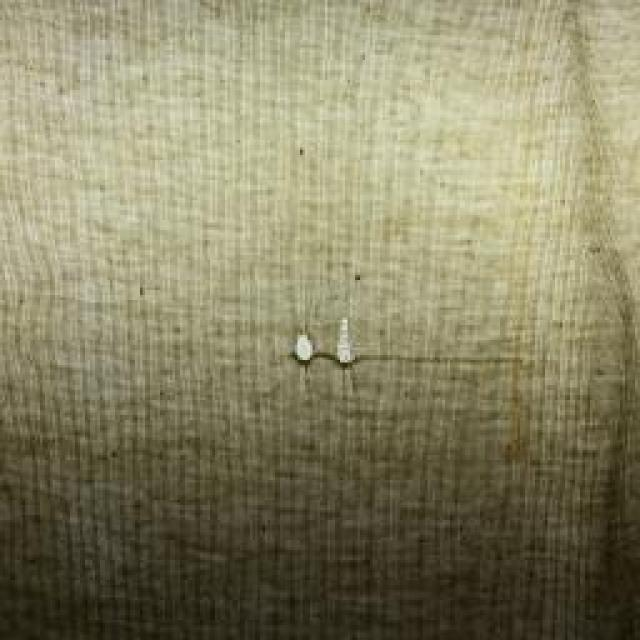other: (284, 317, 366, 373)
